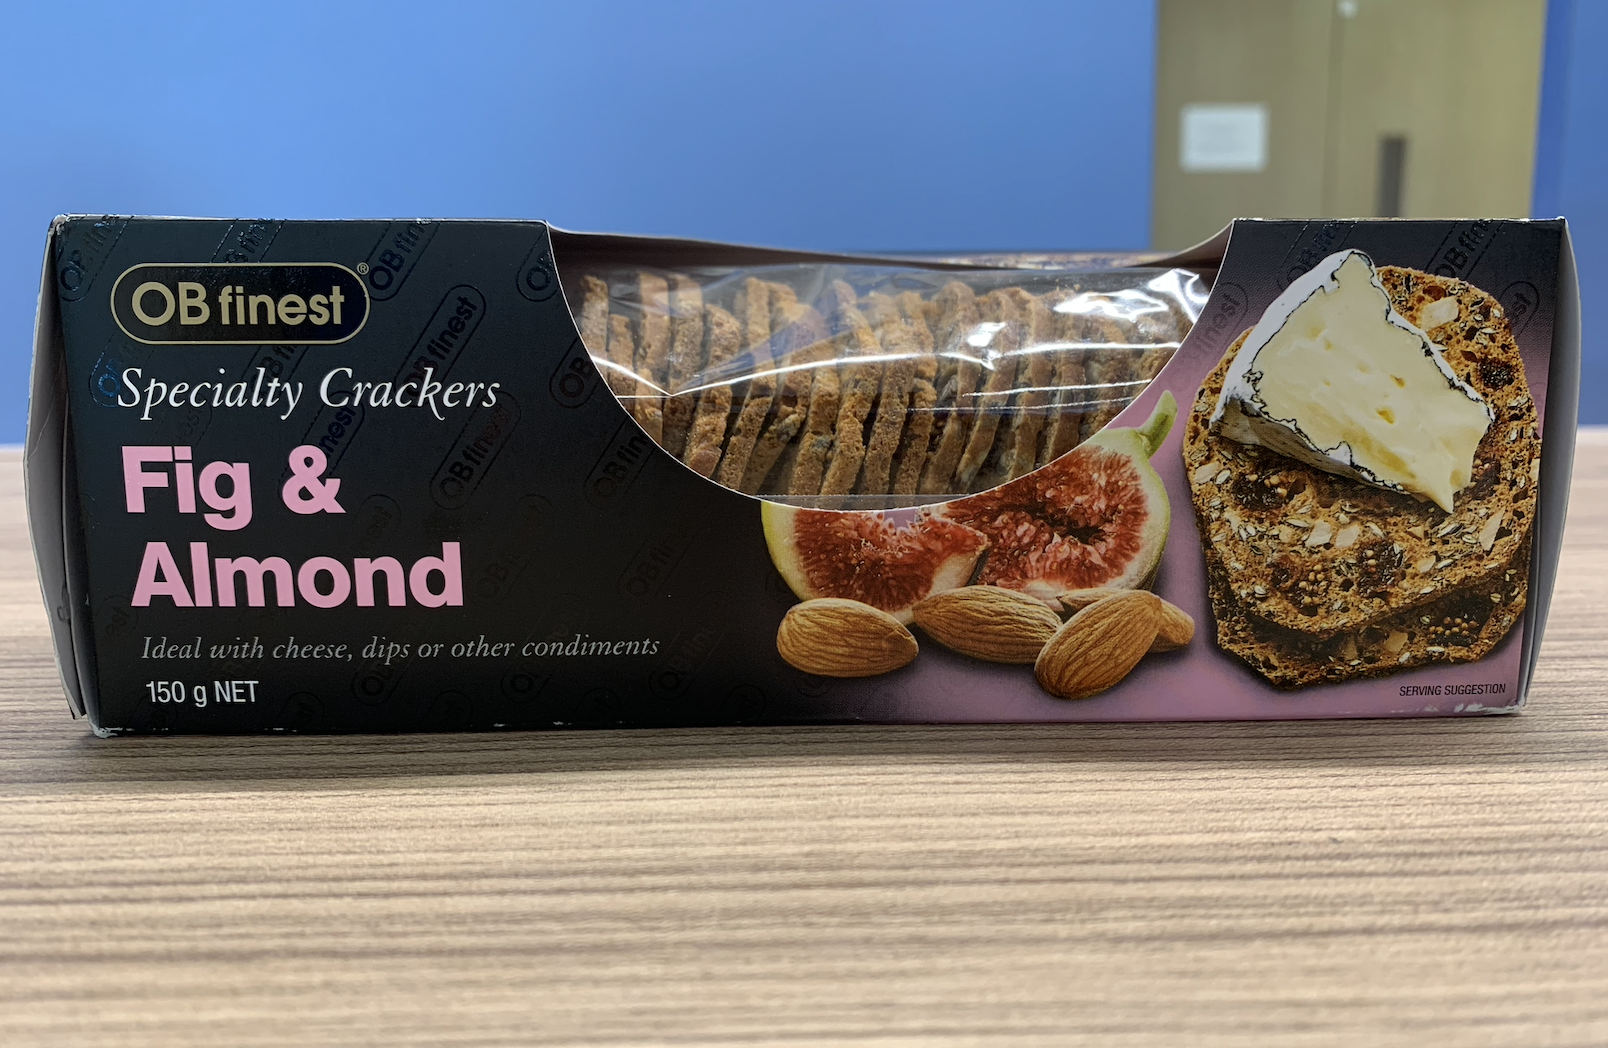crackers_150g: (95, 234, 1518, 717)
